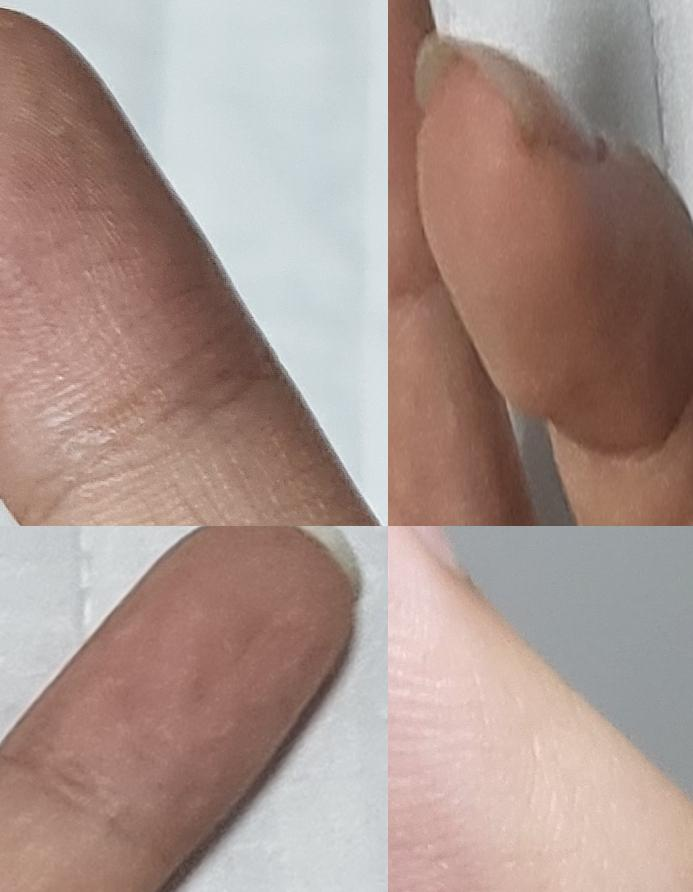Fingerprints: (0, 6, 258, 526), (0, 526, 353, 866), (417, 62, 693, 454), (388, 526, 604, 892)
